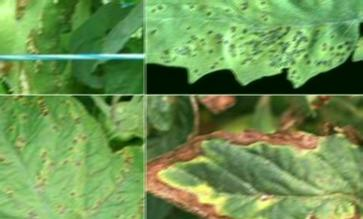Tomato leaf bacterial spot: (151, 105, 363, 219), (147, 0, 363, 84), (0, 100, 135, 219)
